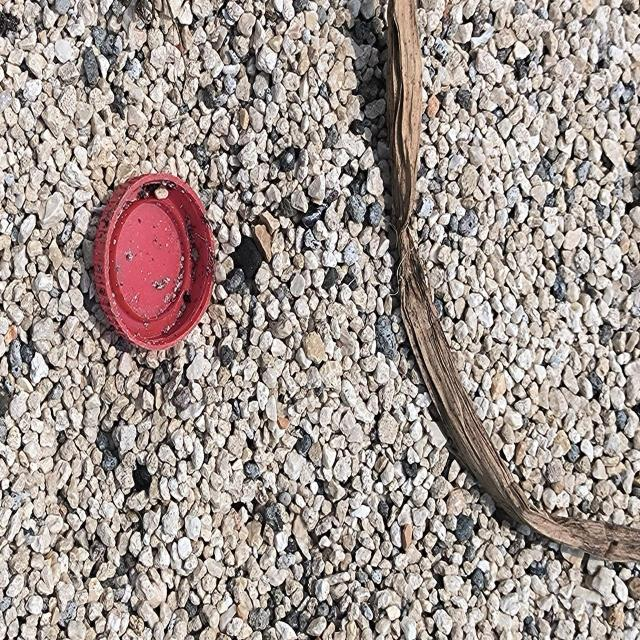plastic_waste: (93, 175, 217, 353)
